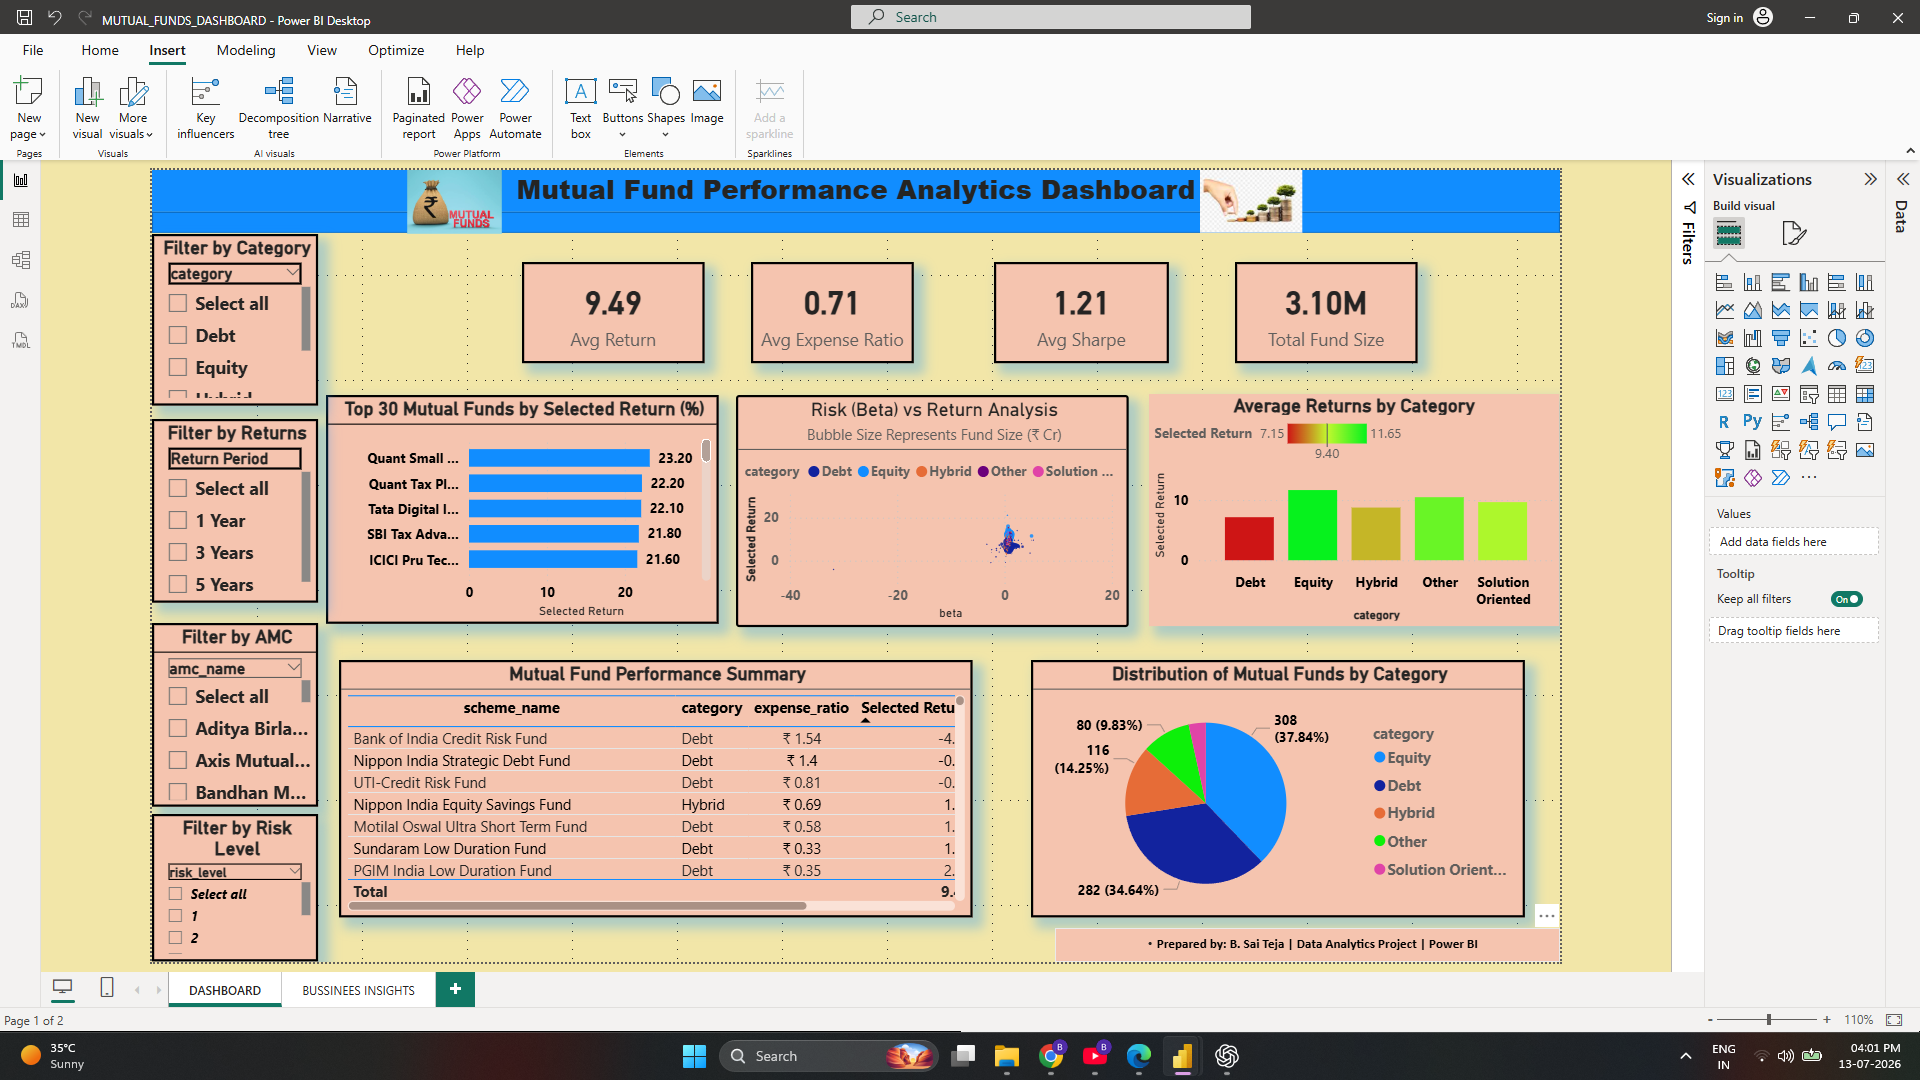

The page's visual inventory and layout, read from the dashboard file:
{"tool":"powerbi","page":{"name":"DASHBOARD","canvas":[1280,720],"ordinal":0},"visuals":[{"type":"shape","title":"Mutual Fund Performance Analytics Dashboard","box":[0,0,1280,57.3],"z":0},{"type":"card","fields":{"Values":["measures .Total Fund Size"]},"box":[984.4,83.3,165.6,92.2],"z":1000},{"type":"card","fields":{"Values":["measures .Avg Sharpe"]},"box":[765.6,83.3,158.9,92.2],"z":2000},{"type":"card","fields":{"Values":["measures .Avg Expense Ratio"]},"box":[544.4,83.3,147.8,92.2],"z":3000},{"type":"clusteredBarChart","title":"Top 30 Mutual Funds by Selected Return (%)","fields":{"Category":["MutualFund_Clean.category Hierarchy.scheme_name"],"Y":["measures .Selected Return1"]},"box":[157.8,204.4,356.7,207.8],"z":4000},{"type":"scatterChart","title":"Risk (Beta) vs Return Analysis","fields":{"X":["MutualFund_Clean.beta"],"Y":["measures .Selected Return"],"Series":["MutualFund_Clean.category"],"Size":["Sum(MutualFund_Clean.fund_size_cr)"]},"box":[531.1,204.4,356.7,211.1],"z":5000},{"type":"pieChart","title":"Distribution of Mutual Funds by Category","fields":{"Category":["MutualFund_Clean.category"],"Y":["CountNonNull(MutualFund_Clean.scheme_name)"]},"box":[798.9,445.6,448.9,234.4],"z":6000},{"type":"tableEx","title":"Mutual Fund Performance Summary","fields":{"Values":["MutualFund_Clean.scheme_name","MutualFund_Clean.category","MutualFund_Clean.expense_ratio","measures .Selected Return","MutualFund_Clean.Composite Score","MutualFund_Clean.Rank"]},"box":[170,445.6,575.6,234.4],"z":7000},{"type":"slicer","title":"Filter by Category","fields":{"Values":["MutualFund_Clean.category"]},"box":[0,57.8,151.1,155.6],"z":8000},{"type":"slicer","title":"Filter by AMC","fields":{"Values":["MutualFund_Clean.amc_name"]},"box":[0,412.2,151.1,166.7],"z":9000},{"type":"slicer","title":"Filter by Risk Level","fields":{"Values":["MutualFund_Clean.risk_level"]},"box":[0,585.6,151.1,134.4],"z":10000},{"type":"image","box":[952.7,0,92.7,57.3],"z":11000},{"type":"image","box":[190,0,170.8,57.5],"z":12000},{"type":"slicer","title":"Filter by Returns","fields":{"Values":["Return Period. Return Period "]},"box":[0,226.7,151.1,166.7],"z":14000},{"type":"card","fields":{"Values":["measures .Avg Return"]},"box":[336.7,83.3,165.6,92.2],"z":15000},{"type":"scatterChart","title":"Risk (Beta) vs 5-Year Returns","fields":{"Series":["MutualFund_Clean.category"],"Size":["Count(MutualFund_Clean.fund_size_cr)"]},"box":[1606.7,204.4,373.3,188.9],"z":16000},{"type":"clusteredColumnChart","title":"Average Returns by Category","fields":{"Y":["measures .Selected Return"],"Category":["MutualFund_Clean.category Hierarchy.category","MutualFund_Clean.category Hierarchy.scheme_name","MutualFund_Clean.category Hierarchy.amc_name"]},"box":[906.7,203.3,373.3,211.1],"z":17000}]}

Visuals, with their boxes on the page's 1280x720 design canvas (x1, y1, x2, y2). These are canvas units, not pixel positions in the 1920x1080 screenshot, which may show the page scaled, cropped or inside an application window:
"Mutual Fund Performance Analytics Dashboard" shape: x1=0, y1=0, x2=1280, y2=57
card - measures .Total Fund Size: x1=984, y1=83, x2=1150, y2=176
card - measures .Avg Sharpe: x1=766, y1=83, x2=924, y2=176
card - measures .Avg Expense Ratio: x1=544, y1=83, x2=692, y2=176
"Top 30 Mutual Funds by Selected Return (%)" clusteredBarChart: x1=158, y1=204, x2=514, y2=412
"Risk (Beta) vs Return Analysis" scatterChart: x1=531, y1=204, x2=888, y2=416
"Distribution of Mutual Funds by Category" pieChart: x1=799, y1=446, x2=1248, y2=680
"Mutual Fund Performance Summary" tableEx: x1=170, y1=446, x2=746, y2=680
"Filter by Category" slicer: x1=0, y1=58, x2=151, y2=213
"Filter by AMC" slicer: x1=0, y1=412, x2=151, y2=579
"Filter by Risk Level" slicer: x1=0, y1=586, x2=151, y2=720
image: x1=953, y1=0, x2=1045, y2=57
image: x1=190, y1=0, x2=361, y2=58
"Filter by Returns" slicer: x1=0, y1=227, x2=151, y2=393
card - measures .Avg Return: x1=337, y1=83, x2=502, y2=176
"Risk (Beta) vs 5-Year Returns" scatterChart: x1=1607, y1=204, x2=1980, y2=393
"Average Returns by Category" clusteredColumnChart: x1=907, y1=203, x2=1280, y2=414
